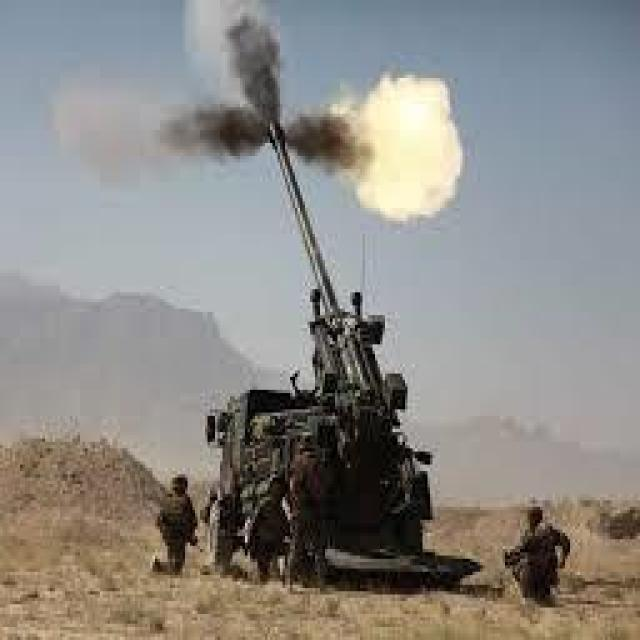Tanks: (208, 104, 440, 559)
